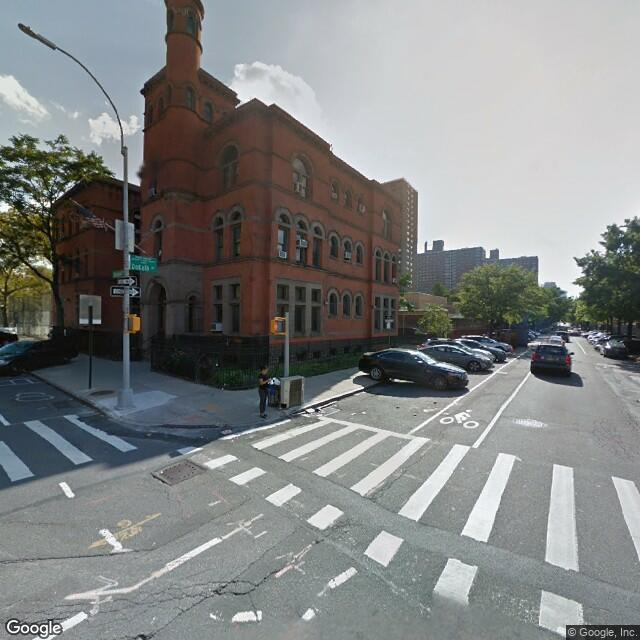litter: (304, 403, 314, 418)
